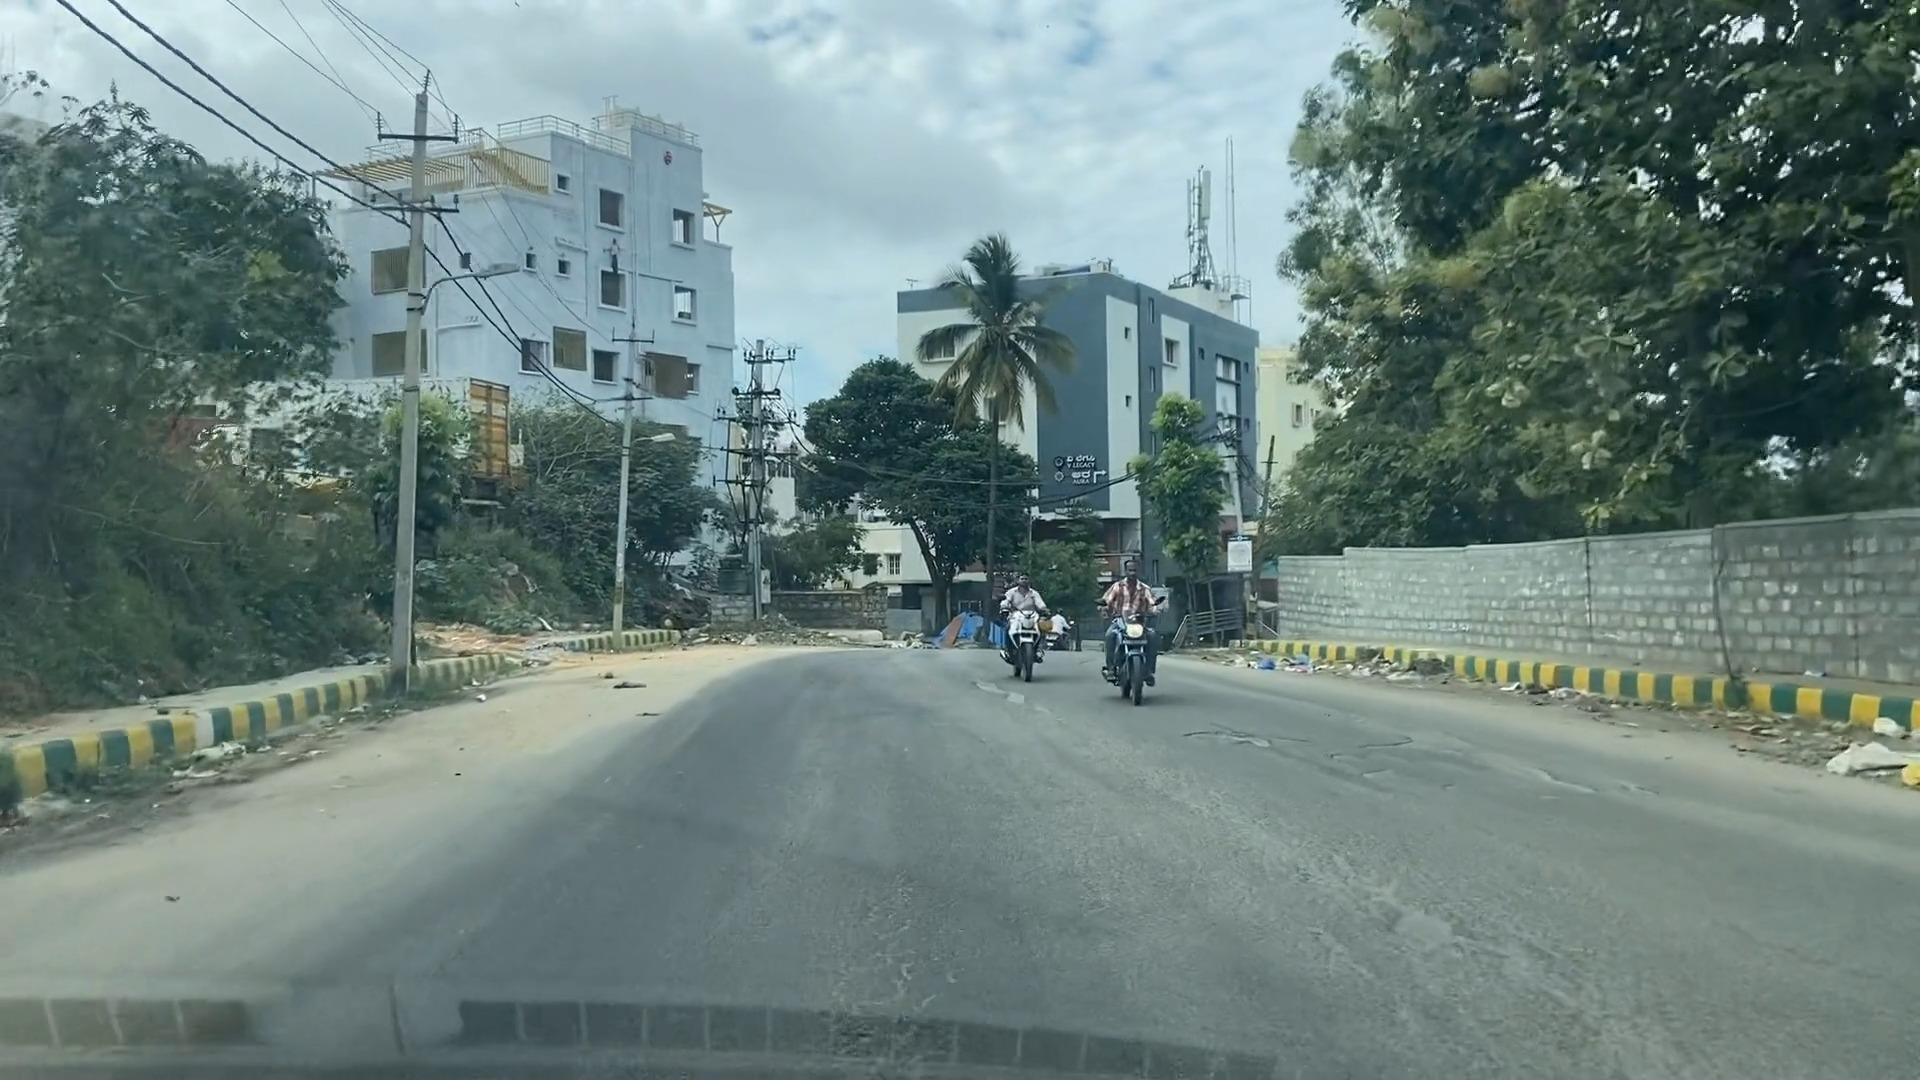RoadDamages: (1160, 684, 1429, 823), (1460, 724, 1705, 845)
